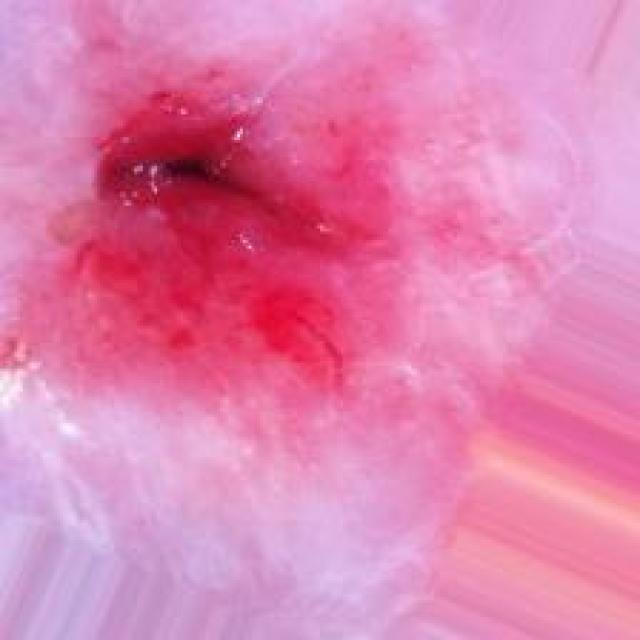type-1: (4, 7, 582, 545)
